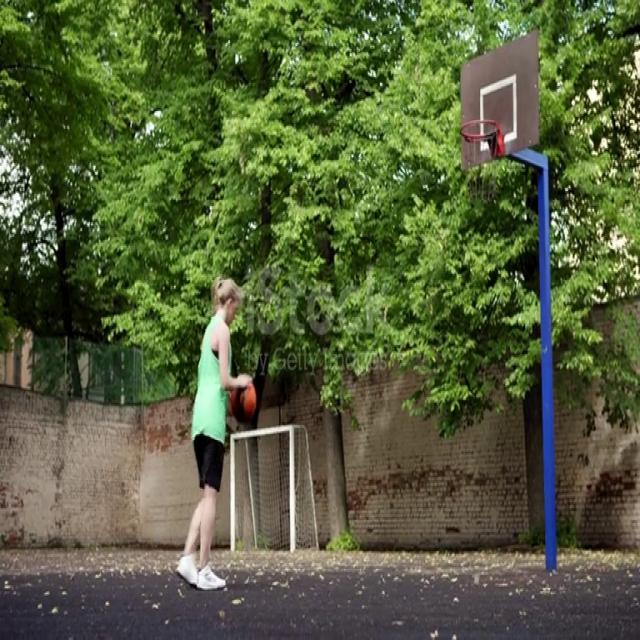ball: (232, 379, 258, 424)
